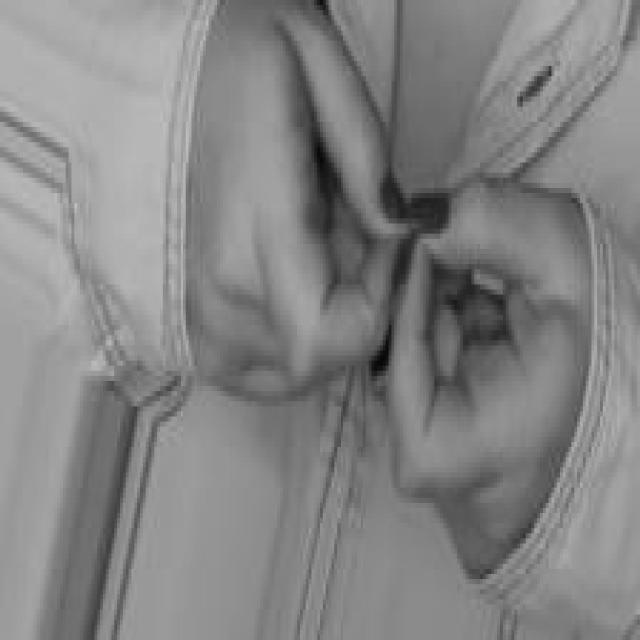B: (192, 1, 586, 588)
